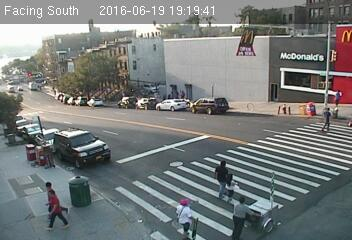neg: (286, 144, 307, 172), (274, 93, 293, 119), (295, 191, 314, 216), (229, 127, 247, 151), (88, 36, 105, 58), (11, 90, 27, 112), (125, 144, 141, 164), (87, 175, 102, 195), (61, 122, 76, 142), (160, 29, 174, 48), (52, 88, 65, 104), (95, 83, 107, 100), (150, 113, 160, 127), (230, 41, 238, 51)
pos: (29, 176, 70, 230), (222, 195, 251, 235), (207, 156, 235, 194), (172, 198, 200, 234), (313, 100, 336, 129), (329, 83, 349, 110), (221, 173, 239, 197)
